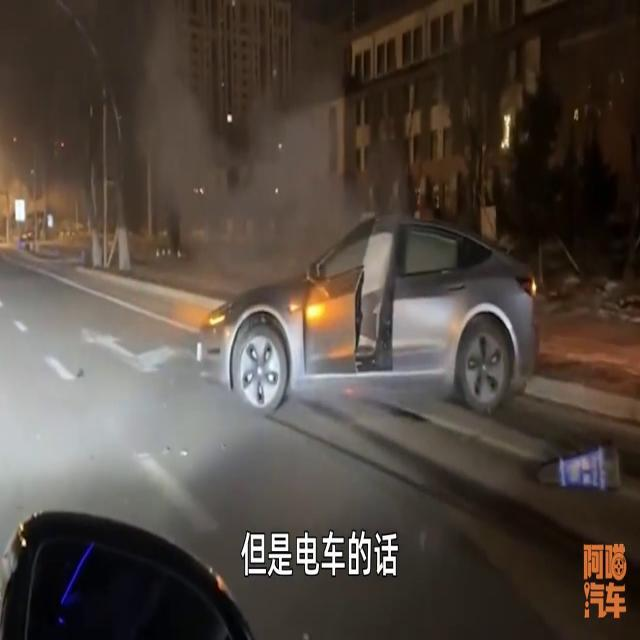Smoke: (117, 3, 354, 280)
